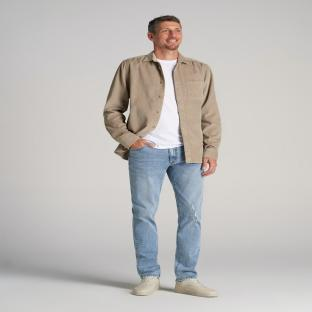Human: (104, 16, 221, 296)
